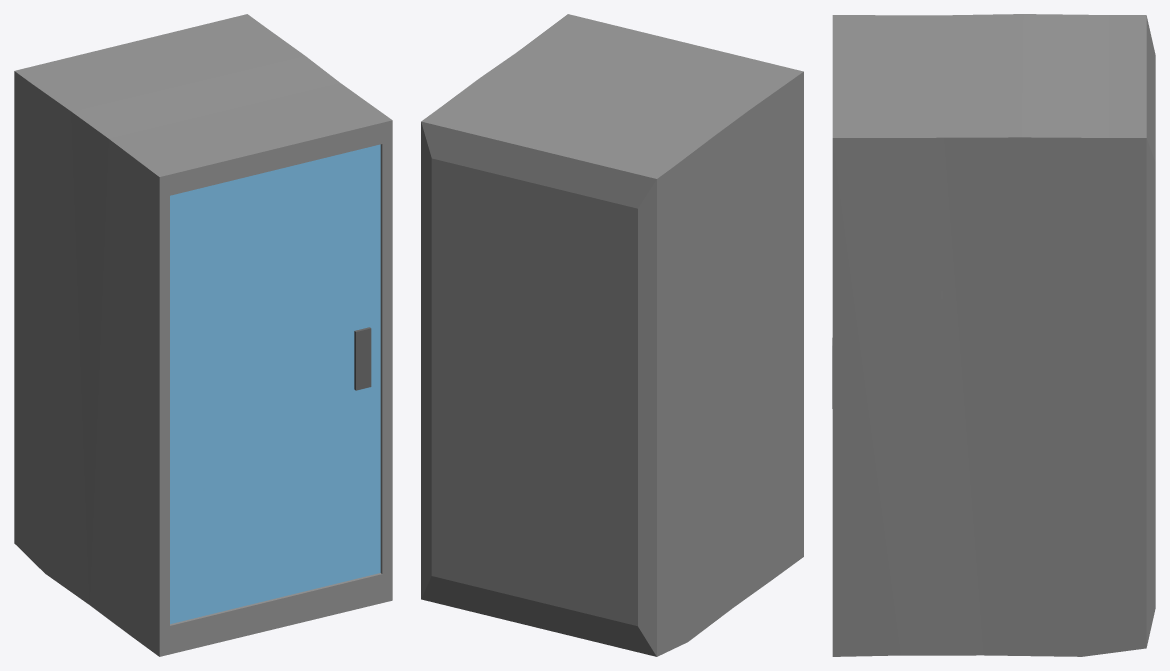
The model's file is RefriSuper.fbx.
The picture shows the model from 3 angles, left to right: view 1: azimuth 30°, elevation 25°; view 2: azimuth 150°, elevation 25°; view 3: azimuth 270°, elevation 25°; orthographic projection. The views are drawn at different scales.
Parts seen in each view (by area): view 1: Cube; view 2: Cube; view 3: Cube.
Part boxes in pixels (x1,y1,x2,y2): Cube: [14, 14, 392, 656]; Cube: [421, 14, 803, 656]; Cube: [832, 14, 1155, 656].
Bounding box in the file's own units: 200 × 395 × 222.
